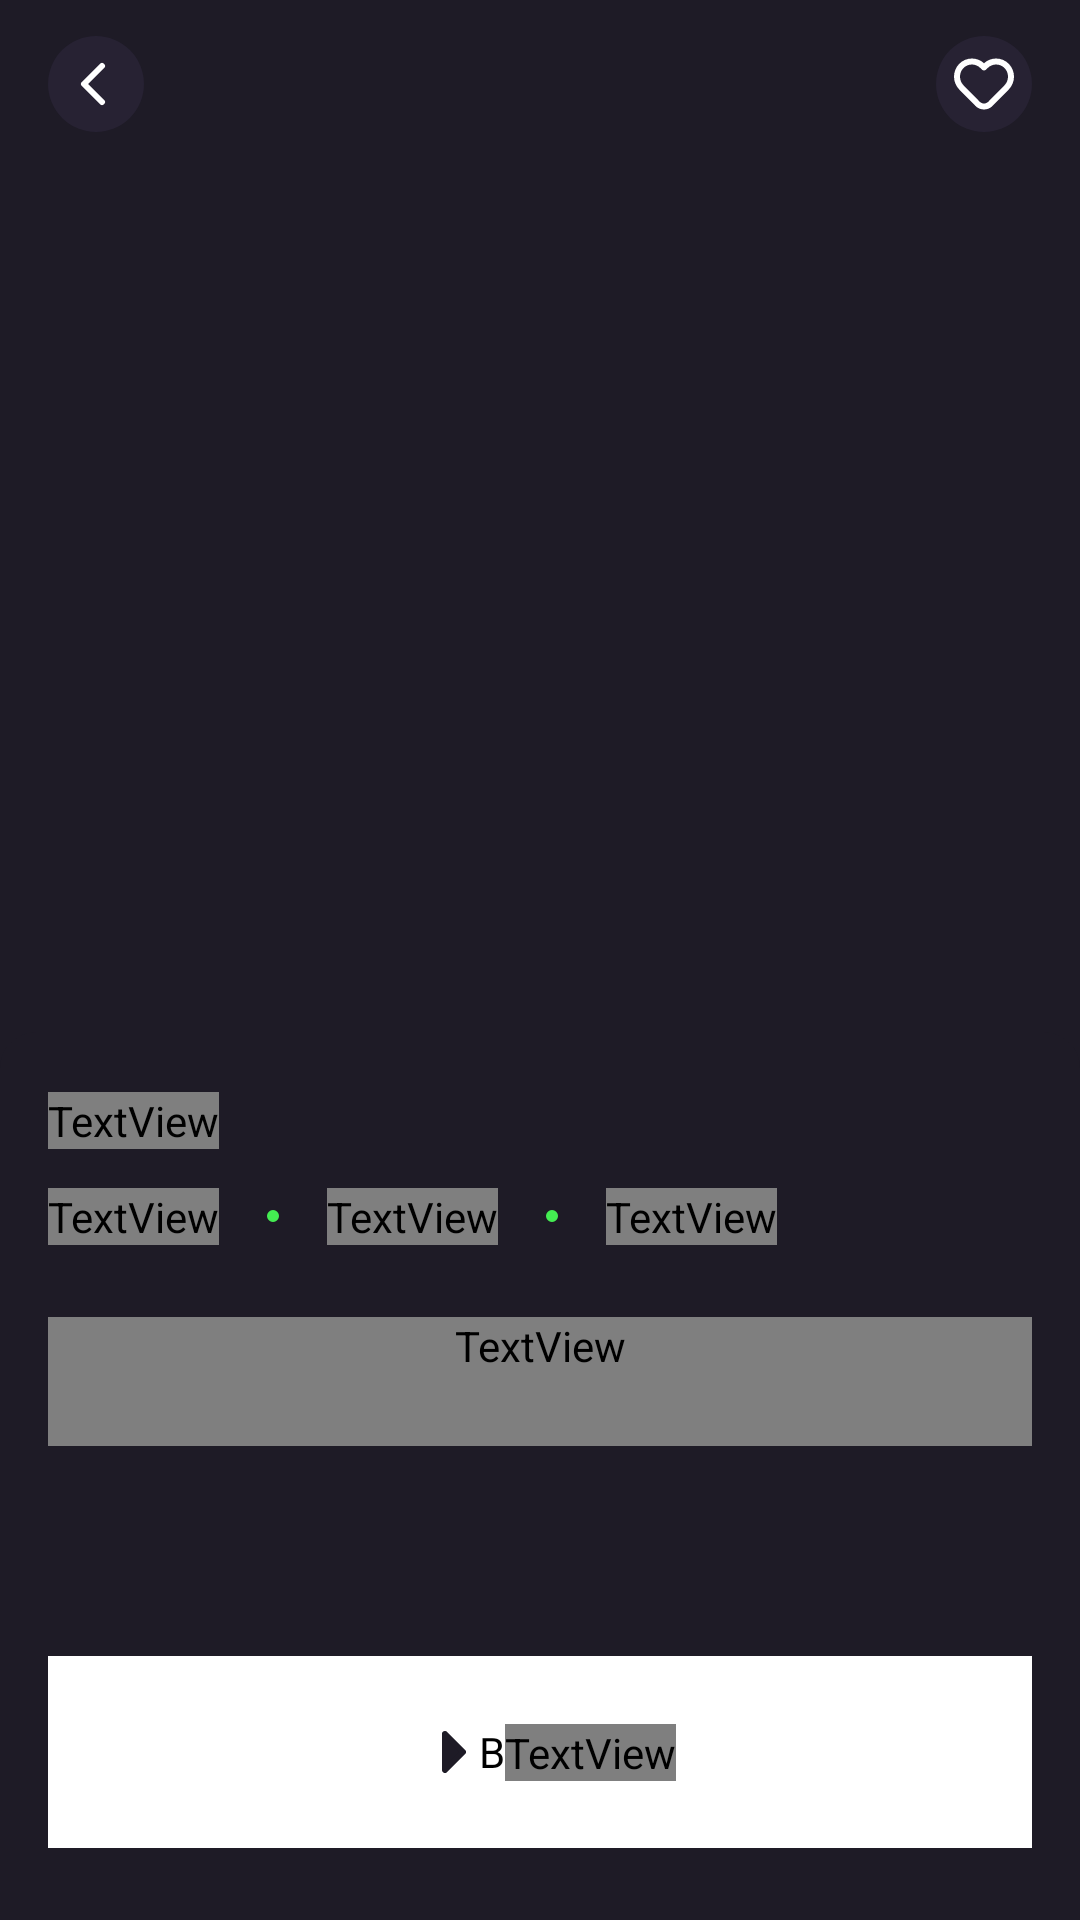

Icons on this 1080w x 1920h Android screen, each with the point to tap as [x,y]:
Back arrow: [96,84]
chevronright: [454,1752]
Heart icon: [984,84]
